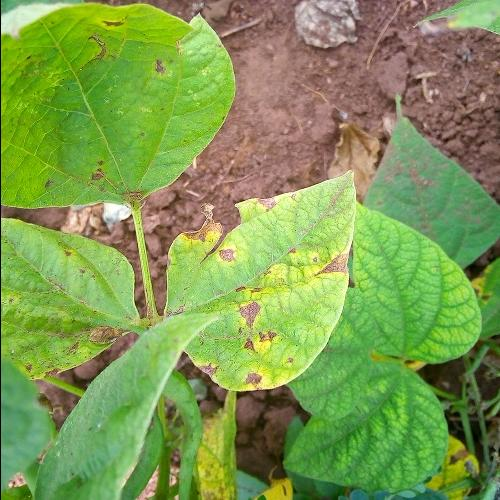hawar: (162, 191, 374, 386)
